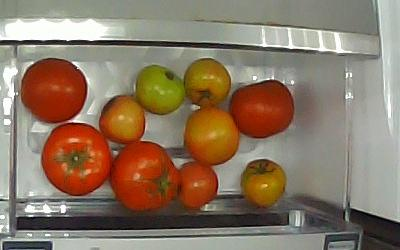tomato: (41, 122, 112, 197), (108, 140, 180, 213), (20, 58, 88, 124), (230, 78, 294, 139), (184, 107, 240, 166), (136, 64, 186, 115), (239, 159, 287, 210), (184, 57, 231, 106), (100, 94, 146, 144), (178, 160, 219, 211)
